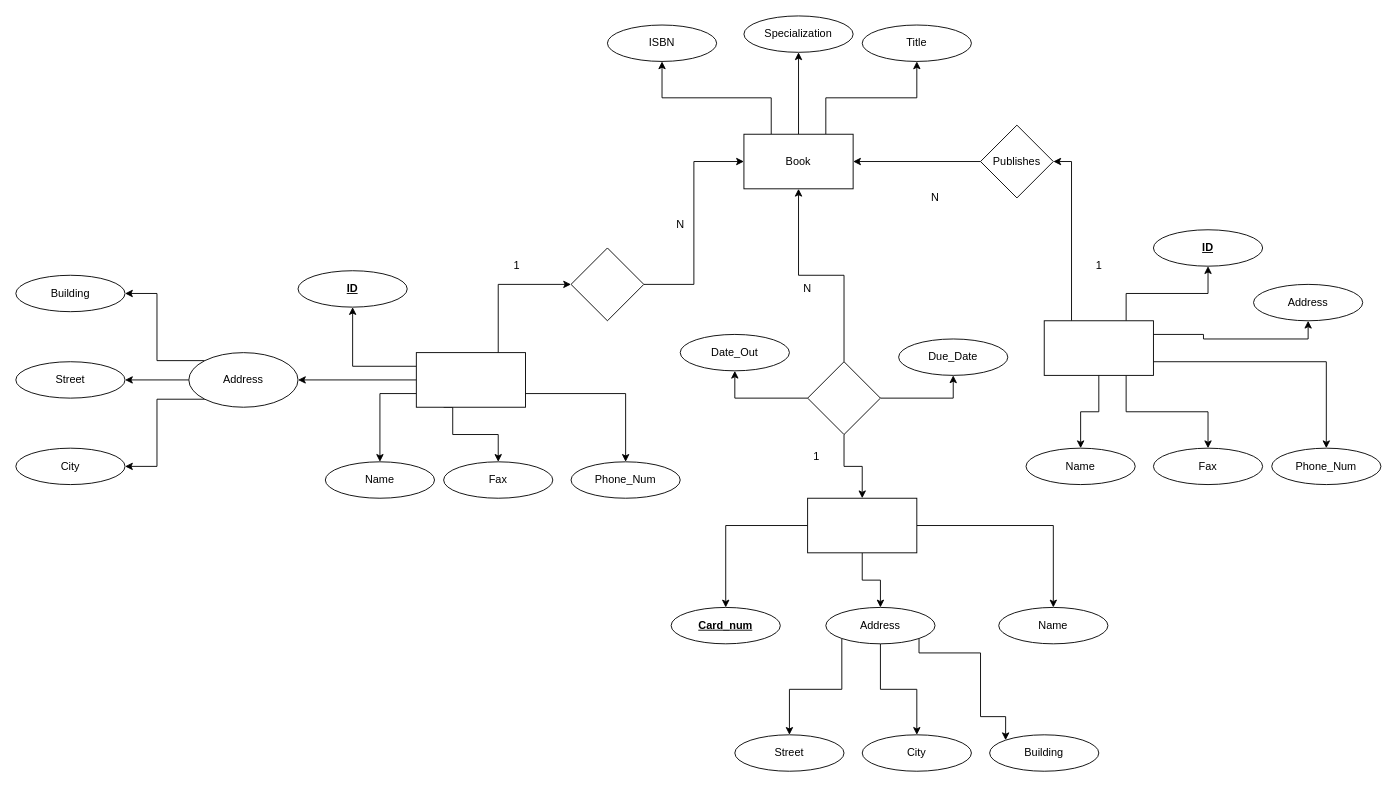
This 1398x787 diagram has some shape labels left out. Each missing label, with the centre of its shape:
"Authur" belongs at pixel 470 379.
"Borrower" belongs at pixel 862 525.
"Borrows" belongs at pixel 843 398.
"Publisher" belongs at pixel 1098 347.
"Writes" belongs at pixel 607 284.
